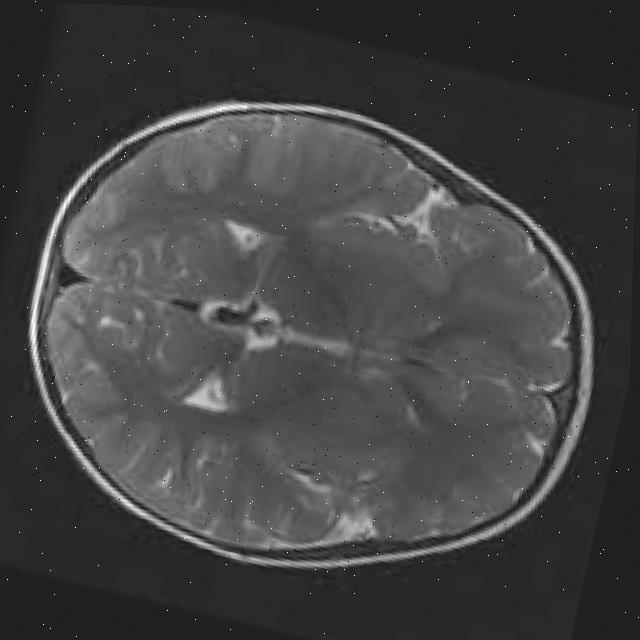NoTumor: (0, 46, 639, 638)
